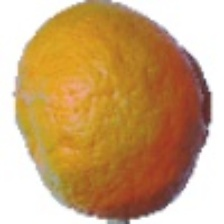tangerine: (9, 49, 200, 217)
